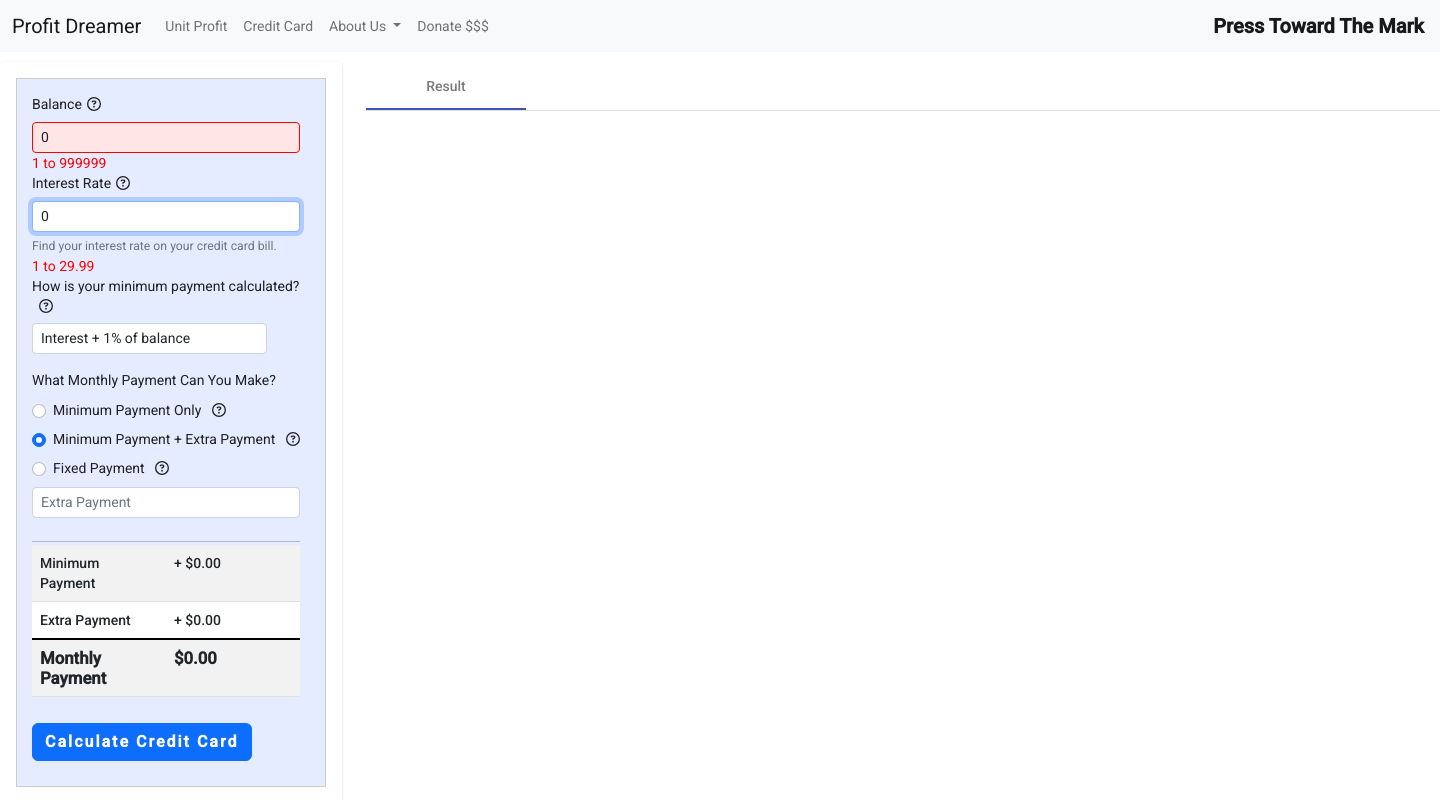
credit-card-validation.cy.ts › extra payment › blur error should be visible
The width and height of the screenshot is (1440, 800).
Focus the field with id "extra-payment": (166, 503) [32,487,300,518]
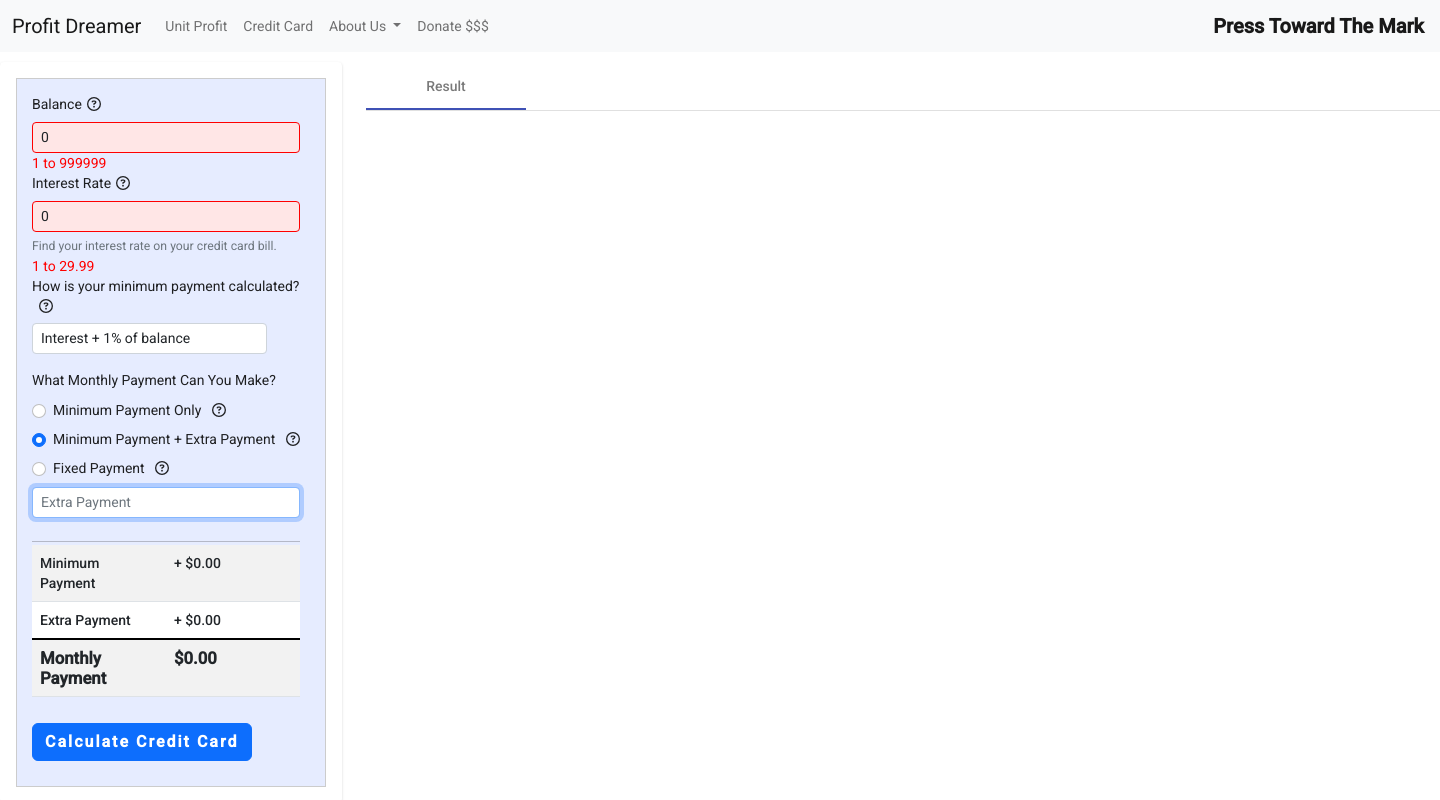
Leave the field with id "extra-payment", box [32,487,300,518]
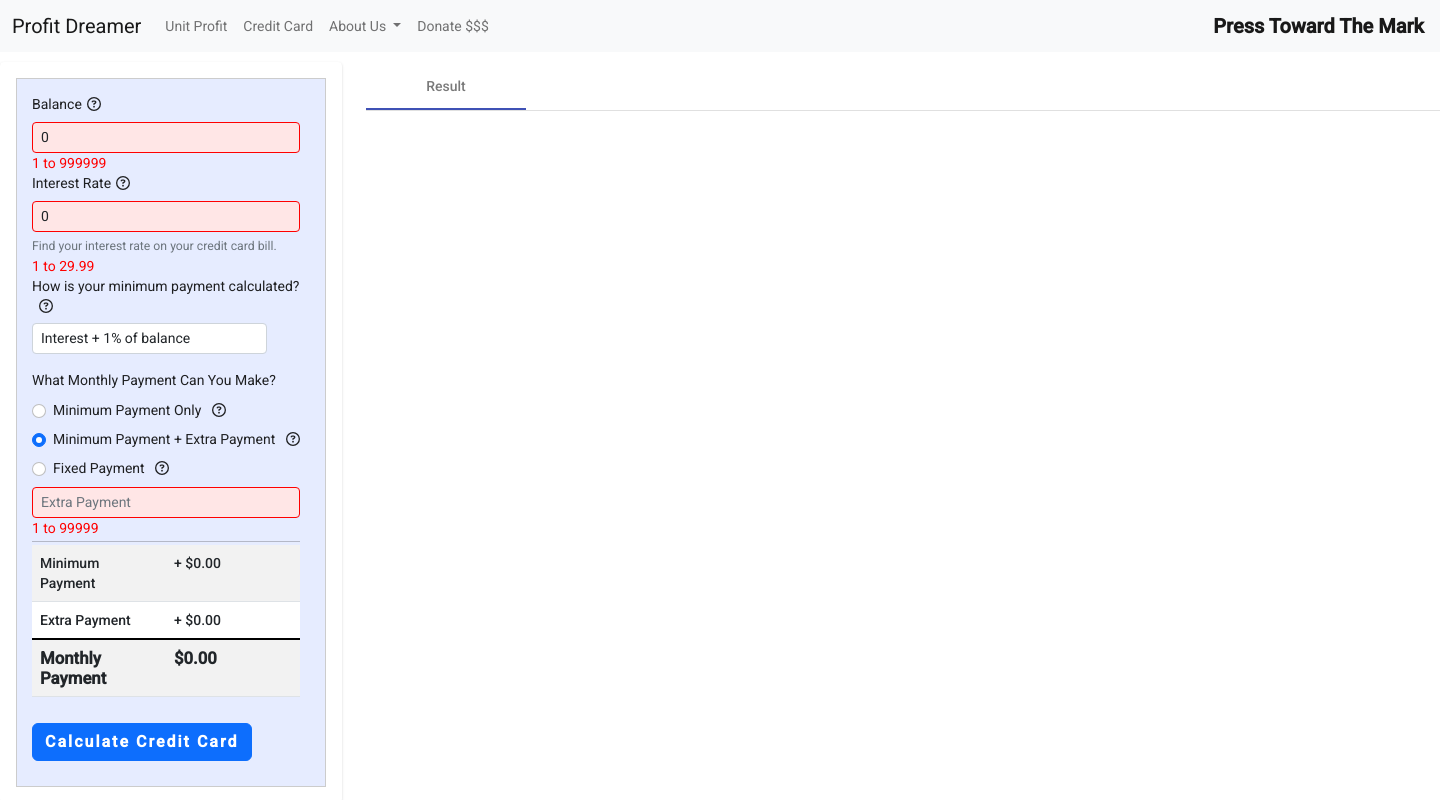
Now the text "1 to 99999" is shown, box [32,520,99,536]
